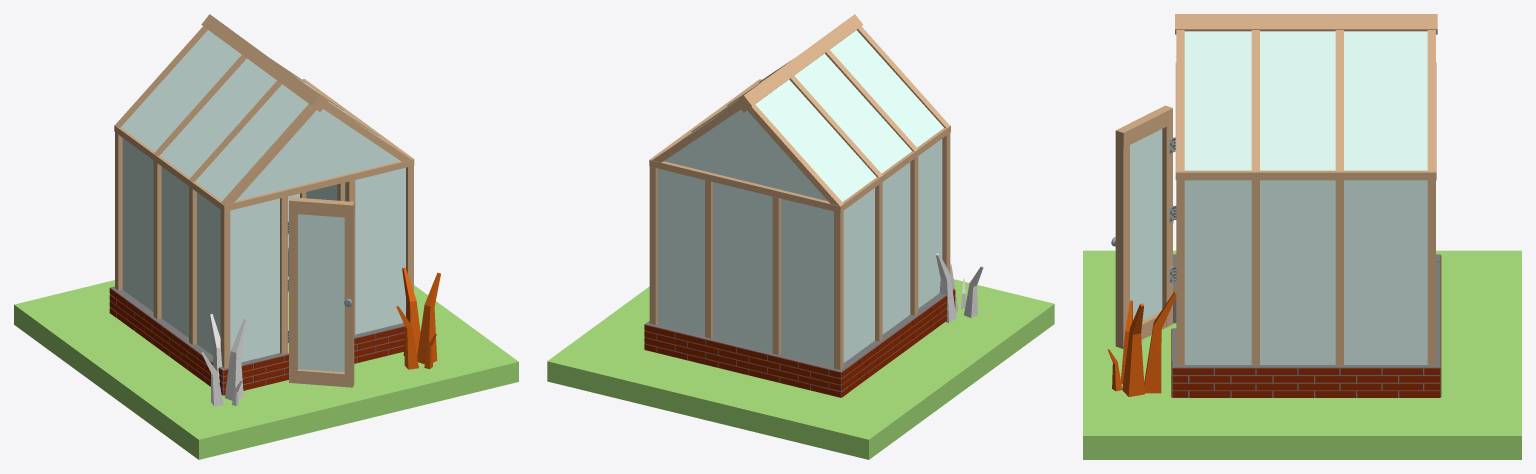
Rendered from building_greenhouse 1.fbx.
3 views of the same model, side by side, from view 1: azimuth 30°, elevation 25°; view 2: azimuth 150°, elevation 25°; view 3: azimuth 270°, elevation 25° (orthographic). The views are drawn at different scales.
Visible parts, largest first — view 1: glass; view 2: glass; view 3: glass.
Boxes of the visible parts, bbox=[...] form: glass: bbox=[14, 14, 518, 459]; glass: bbox=[547, 14, 1054, 459]; glass: bbox=[1083, 14, 1521, 459].
Bounding box in the file's own units: 50 × 44.43 × 50.
